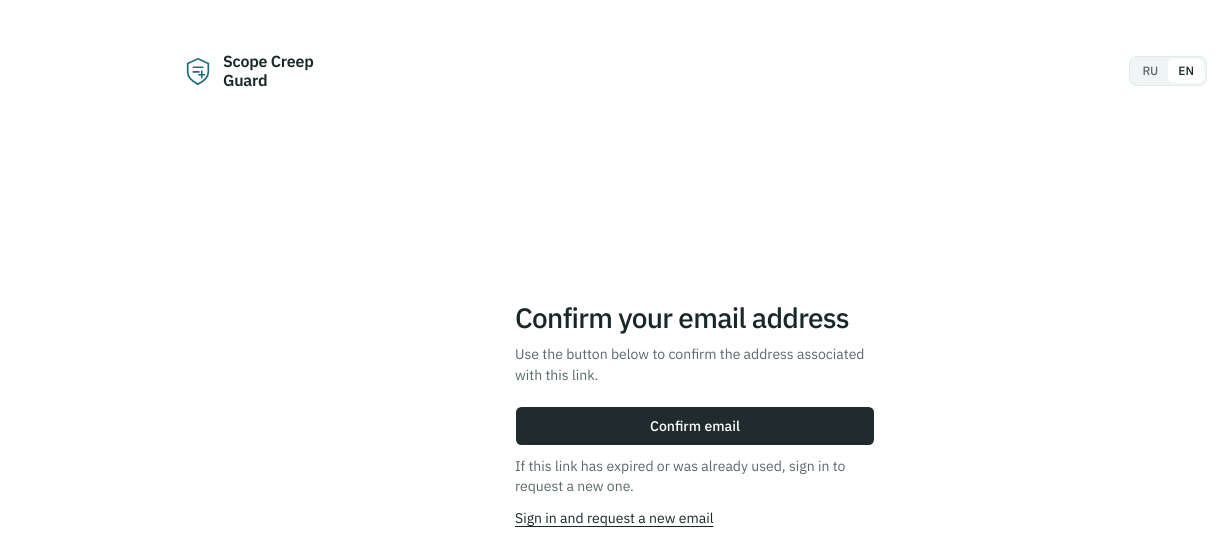
Test case: refreshes the original account and continues to a safe workspace destination
Click the button "Confirm email" at (695, 426), box [515,406,875,446]
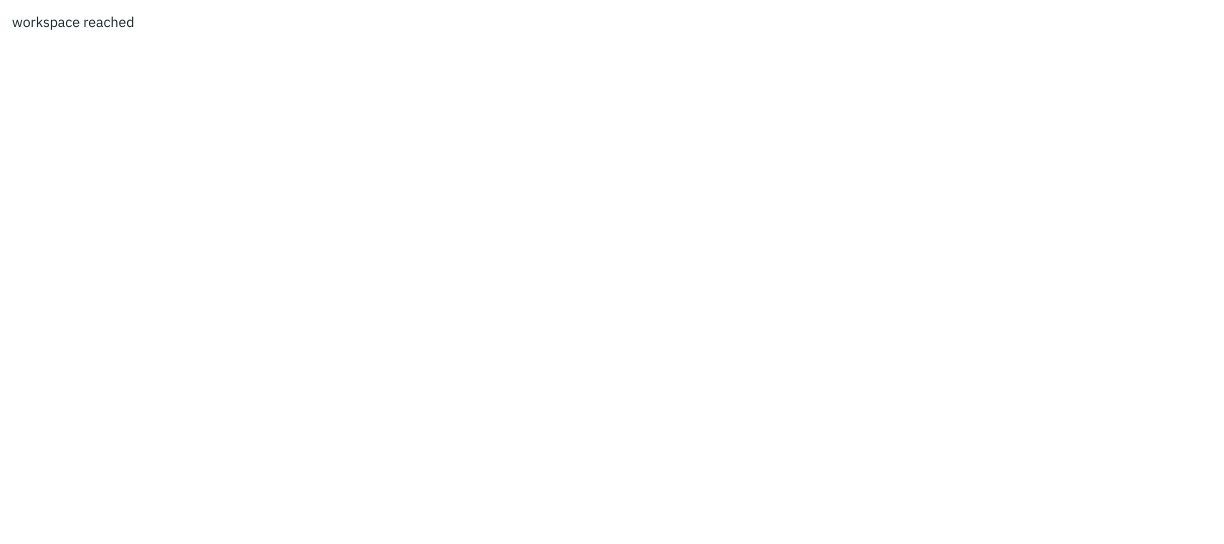
Now the text "workspace reached" is shown, box [12,13,134,31]
